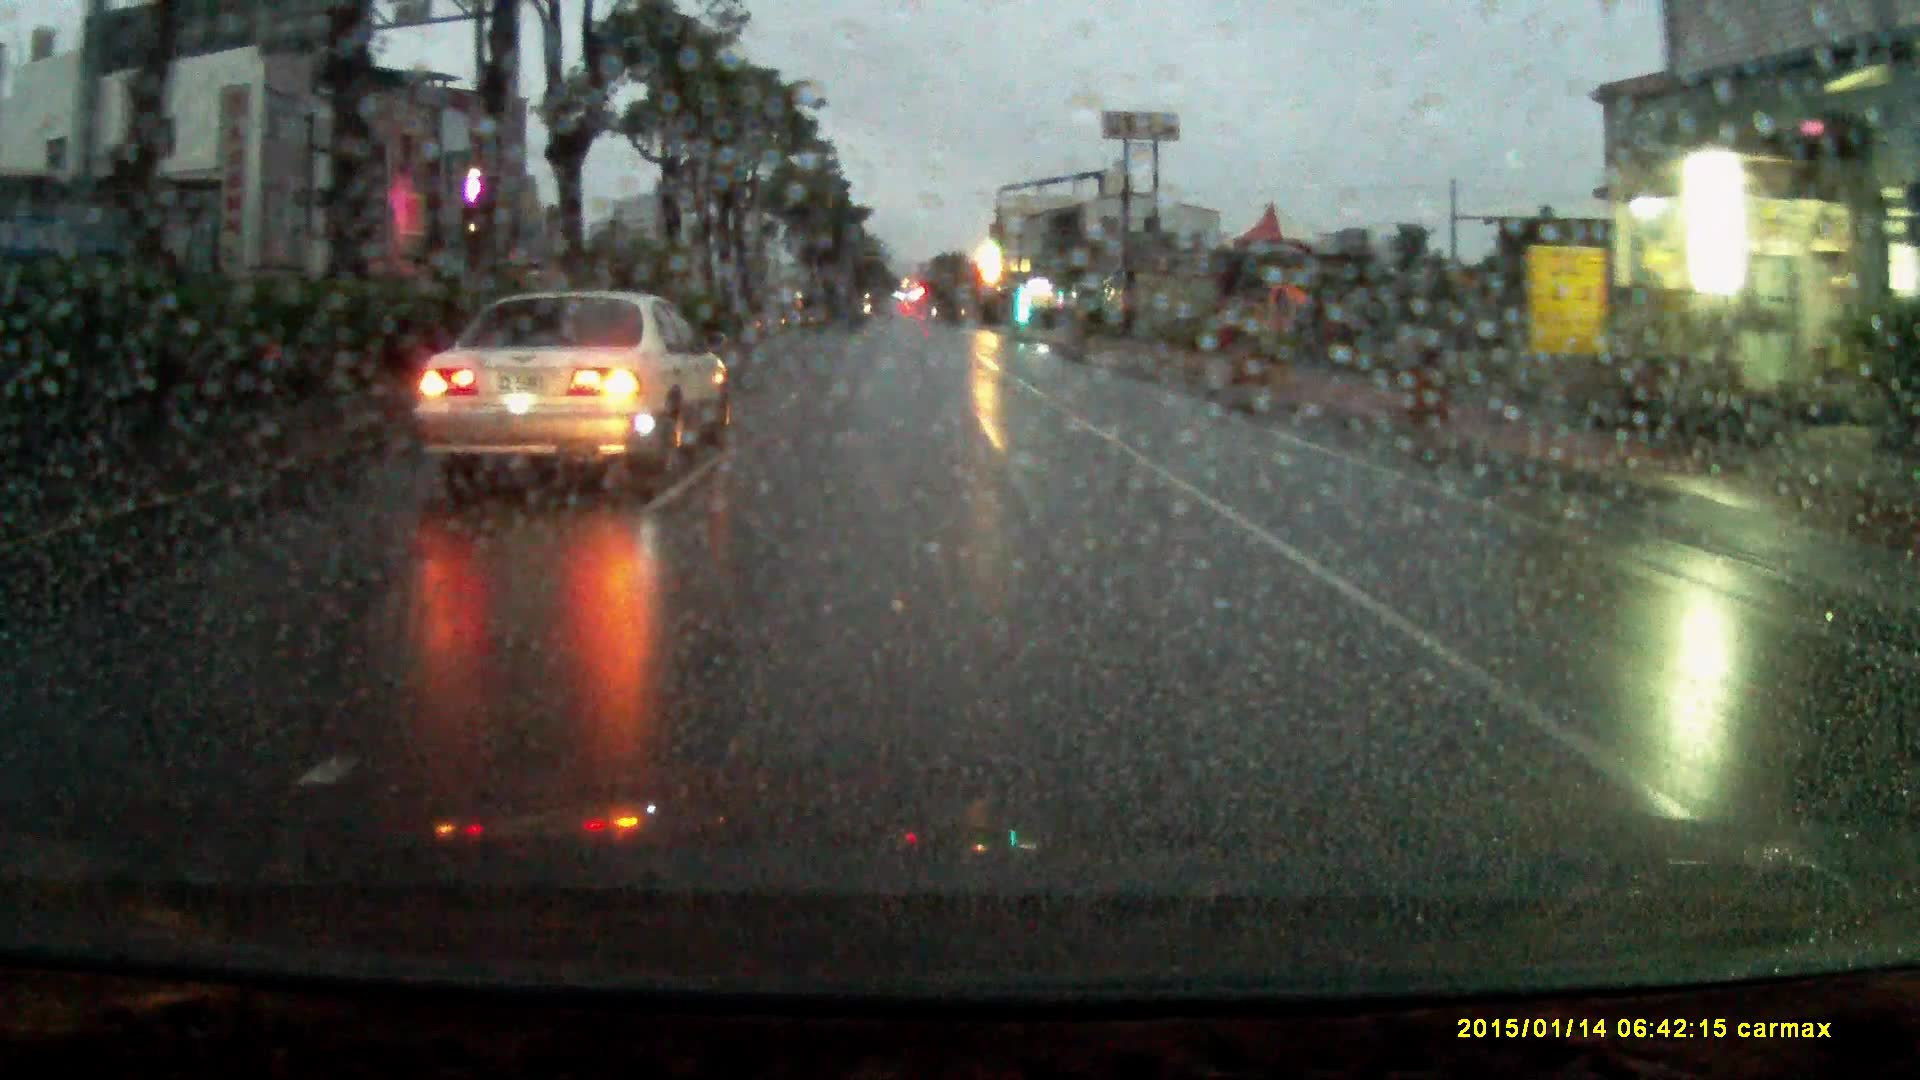vehicle: (414, 287, 742, 500)
